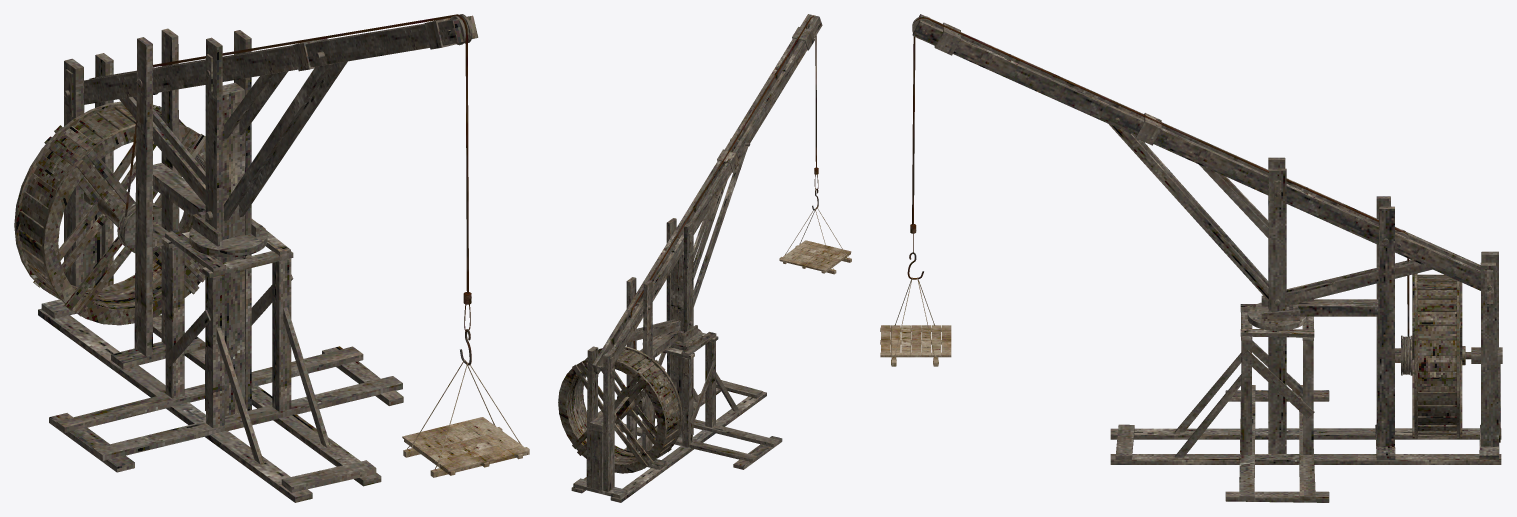
File: crane-fixed.fbx
The picture shows the model from 3 angles, left to right: view 1: azimuth 30°, elevation 25°; view 2: azimuth 150°, elevation 25°; view 3: azimuth 270°, elevation 25°; orthographic projection. The views are drawn at different scales.
Parts seen in each view (by area): view 1: Cube.008, wheel, pallet, rope; view 2: Cube.008, wheel, pallet, rope; view 3: Cube.008, wheel, pallet, rope.
Boxes of the visible parts, left/top/right/bottom form: Cube.008: left=38, top=14, right=478, bottom=502; wheel: left=14, top=101, right=205, bottom=325; pallet: left=402, top=360, right=529, bottom=477; rope: left=124, top=14, right=471, bottom=365; Cube.008: left=571, top=14, right=822, bottom=502; wheel: left=558, top=346, right=682, bottom=473; pallet: left=779, top=207, right=851, bottom=274; rope: left=630, top=15, right=818, bottom=392; Cube.008: left=912, top=14, right=1502, bottom=502; wheel: left=1412, top=273, right=1471, bottom=438; pallet: left=880, top=277, right=951, bottom=366; rope: left=907, top=18, right=1409, bottom=336.
Bounding box in the file's own units: 8.72 × 15.78 × 20.64.
